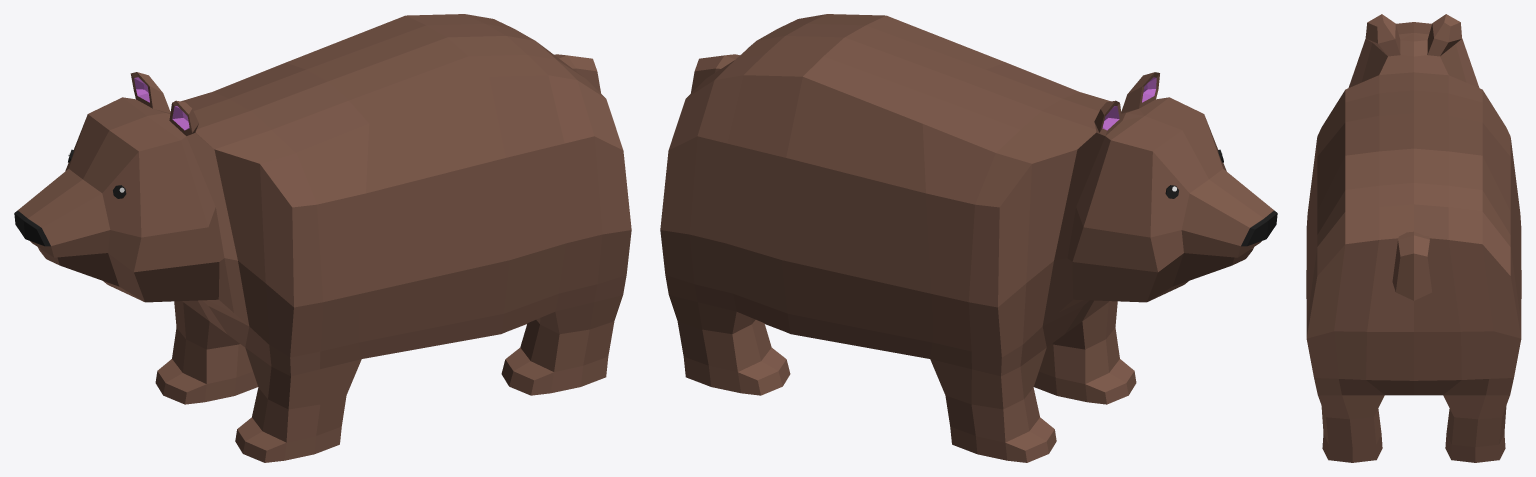
File: evjB26aGfTh.glb
The picture shows the model from 3 angles, left to right: view 1: azimuth 30°, elevation 25°; view 2: azimuth 150°, elevation 25°; view 3: azimuth 270°, elevation 25°; orthographic projection. The views are drawn at different scales.
Parts seen in each view (by area): view 1: Cube.037_Cube.036; view 2: Cube.037_Cube.036; view 3: Cube.037_Cube.036.
Boxes of the visible parts, left/top/right/bottom form: Cube.037_Cube.036: left=14, top=14, right=631, bottom=462; Cube.037_Cube.036: left=660, top=14, right=1277, bottom=462; Cube.037_Cube.036: left=1306, top=14, right=1521, bottom=462.
Size of the model in its own units: 330 by 191 by 130.
